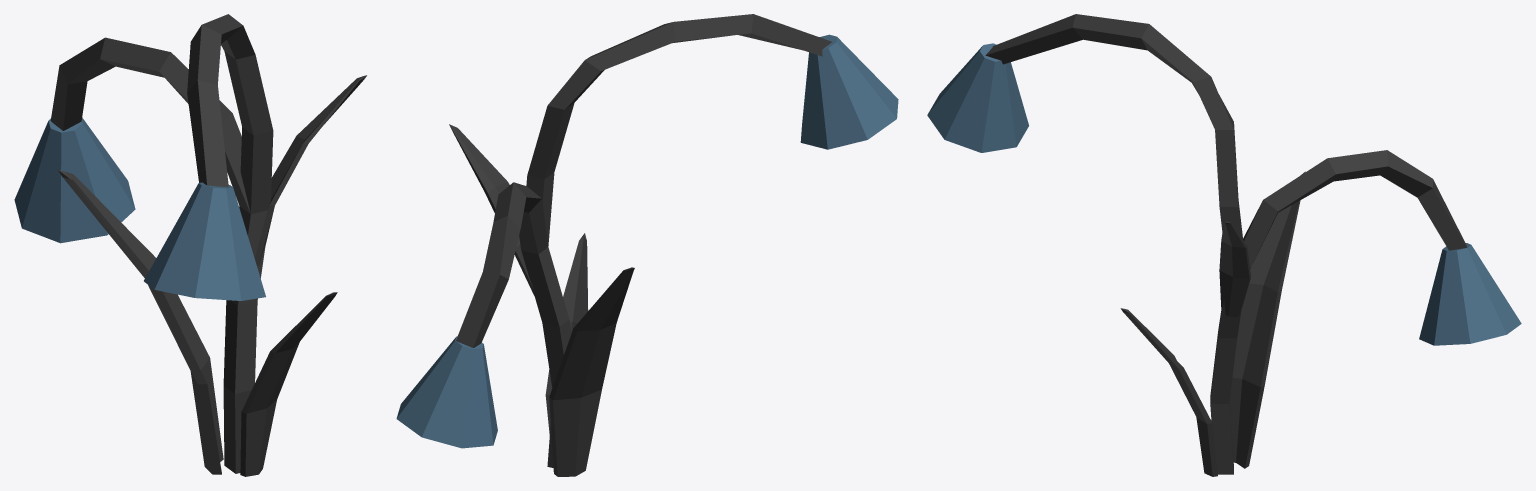
Rendered from Flower_2.fbx.
The picture shows the model from 3 angles, left to right: view 1: azimuth 30°, elevation 25°; view 2: azimuth 150°, elevation 25°; view 3: azimuth 270°, elevation 25°; orthographic projection. The views are drawn at different scales.
Parts seen in each view (by area): view 1: Flower 9; view 2: Flower 9; view 3: Flower 9.
Part boxes in pixels (<box>): Flower 9: <box>14,14,366,476</box>; Flower 9: <box>396,14,898,476</box>; Flower 9: <box>927,14,1521,476</box>.
Bounding box in the file's own units: 91.84 × 120 × 156.
